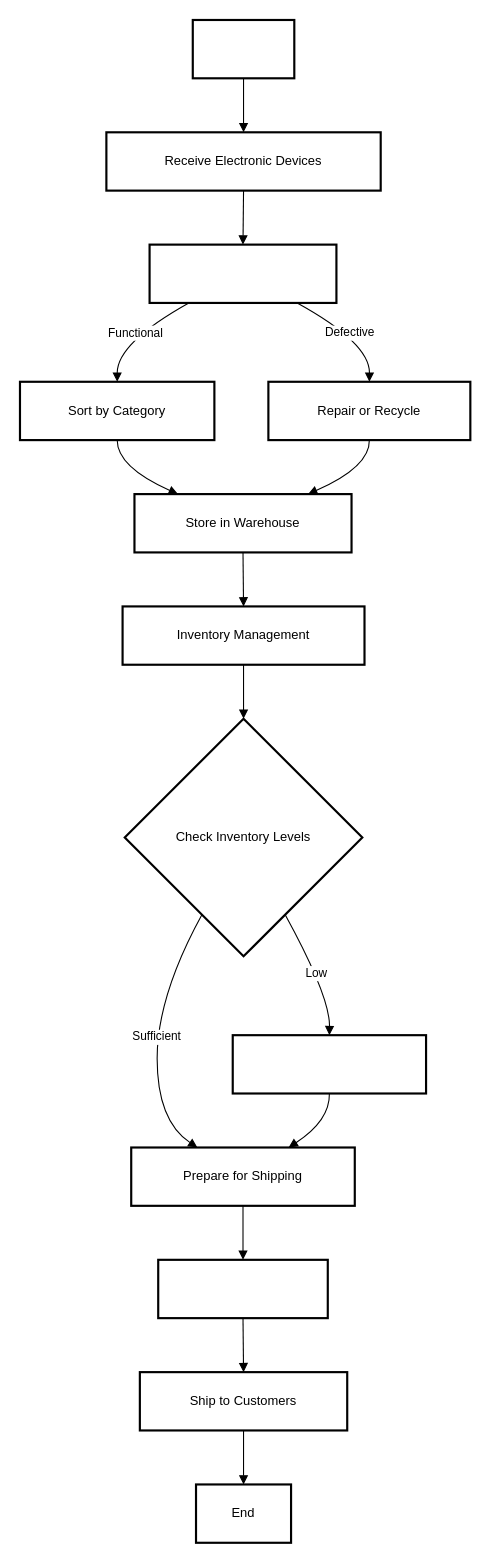
Some shapes in this 489 by 1562 pixel diagram are drawn without their labels. Each missing label, with the box of its shape:
Inspect Devices: (148, 243, 337, 303)
Pack Devices: (157, 1258, 328, 1319)
Reorder Devices: (231, 1034, 427, 1094)
Start: (191, 18, 295, 79)
